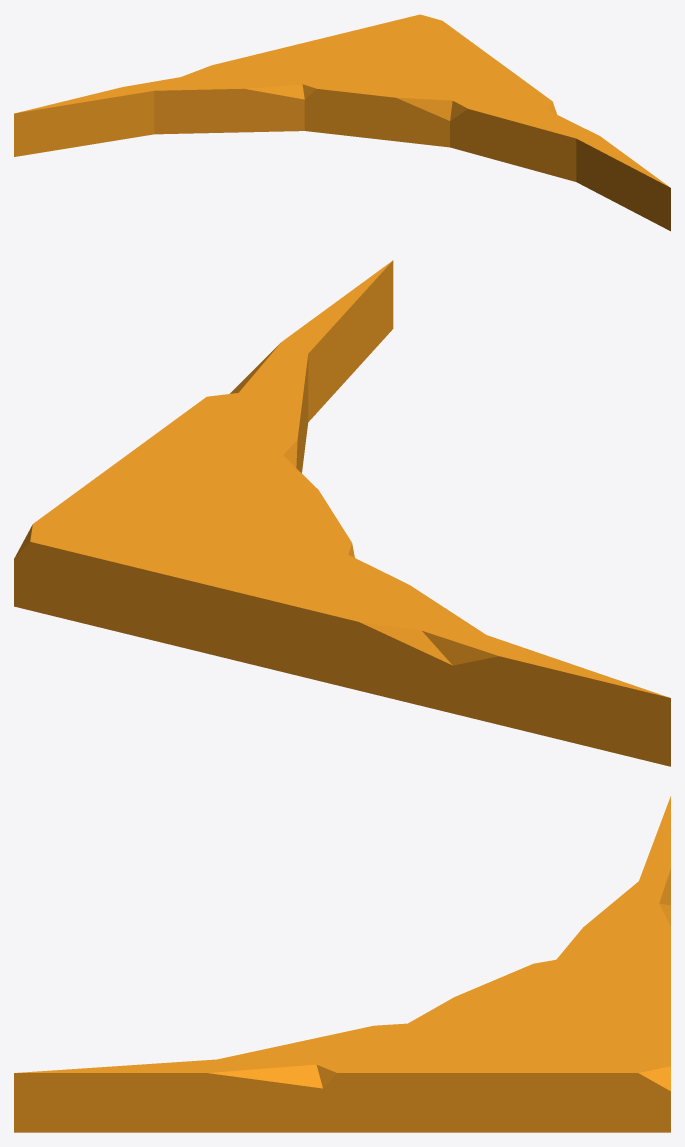
The model's file is SM_Buildings_FloorInner_Curved_1x1_01P.fbx.
3 views of the same model, one above another, from view 1: azimuth 30°, elevation 25°; view 2: azimuth 150°, elevation 25°; view 3: azimuth 270°, elevation 25° (orthographic). The views are drawn at different scales.
Visible parts, largest first — view 1: SM_Buildings_FloorInner_Curved_1x1_01P; view 2: SM_Buildings_FloorInner_Curved_1x1_01P; view 3: SM_Buildings_FloorInner_Curved_1x1_01P.
Part boxes in pixels (<box>): SM_Buildings_FloorInner_Curved_1x1_01P: <box>14,14,670,231</box>; SM_Buildings_FloorInner_Curved_1x1_01P: <box>14,260,670,766</box>; SM_Buildings_FloorInner_Curved_1x1_01P: <box>14,796,670,1132</box>.
Bounding box in the file's own units: 100 × 10 × 100.
